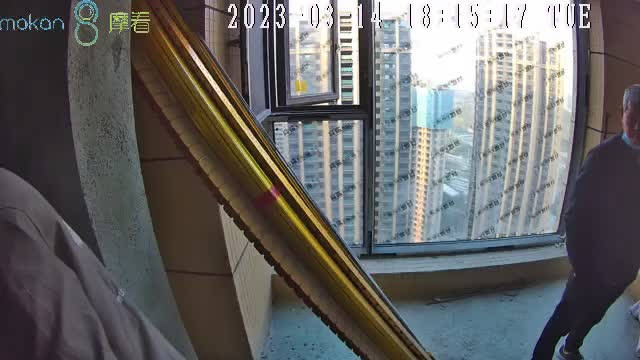people: (531, 83, 640, 360)
window: (271, 1, 578, 246)
